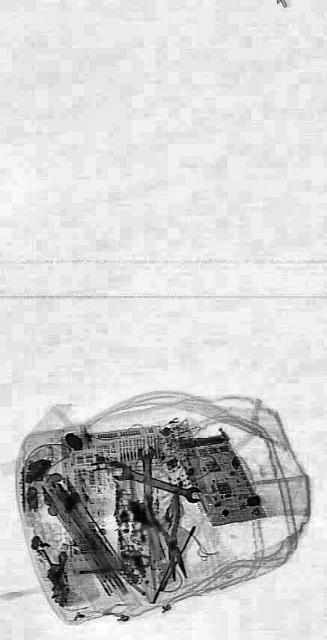Pliers: (145, 481, 193, 592)
Wrench: (112, 458, 202, 506), (136, 444, 156, 526)
